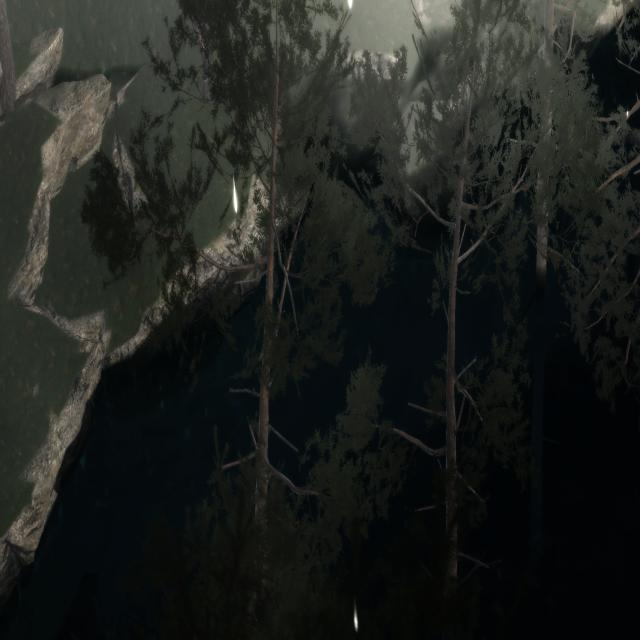Human: (194, 0, 223, 100)
